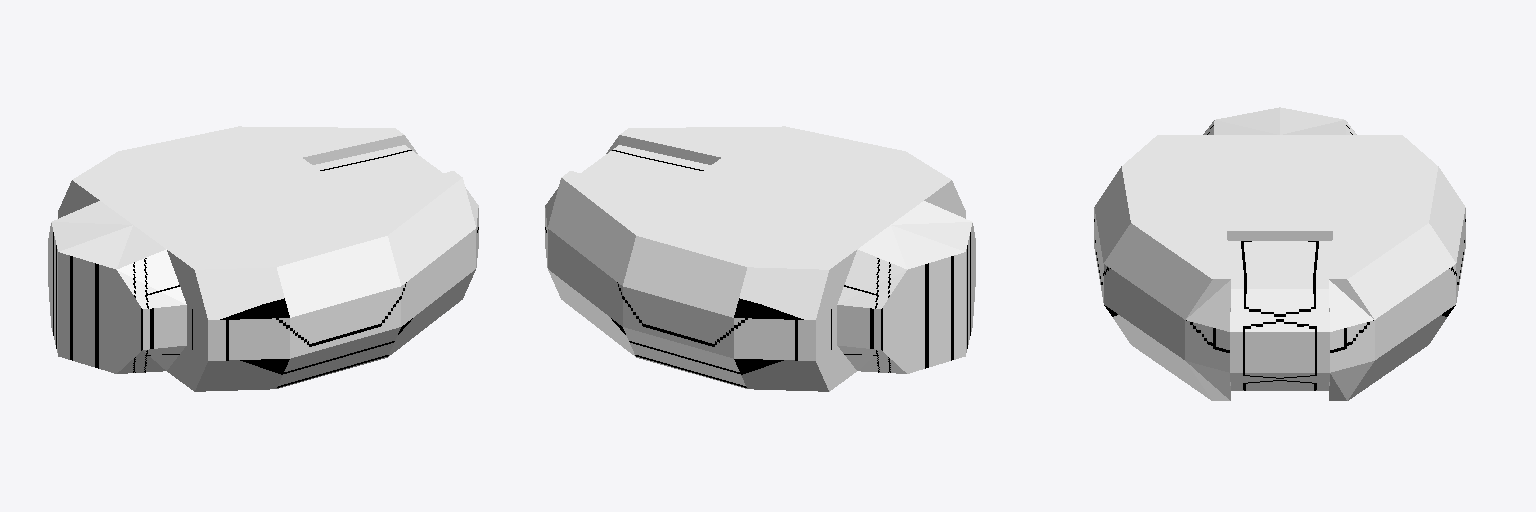
3 views of the same model, side by side, from view 1: azimuth 30°, elevation 25°; view 2: azimuth 150°, elevation 25°; view 3: azimuth 270°, elevation 25° (orthographic).
Parts seen in each view (by area): view 1: cube1; view 2: cube1; view 3: cube1.
Part boxes in pixels (bbox=[...]): cube1: bbox=[48, 126, 478, 391]; cube1: bbox=[545, 126, 975, 391]; cube1: bbox=[1094, 107, 1465, 400].
Size of the model in its own units: 0.4149 by 0.1223 by 0.3374.
Materials: 1 (1 with a texture image).